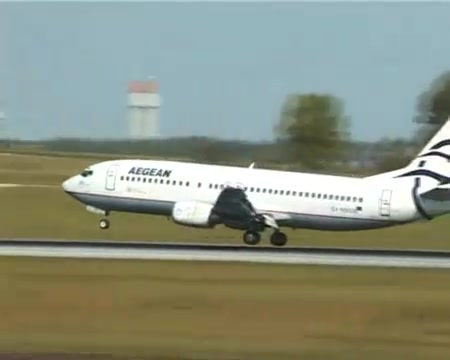aeroplane: (63, 120, 450, 247)
